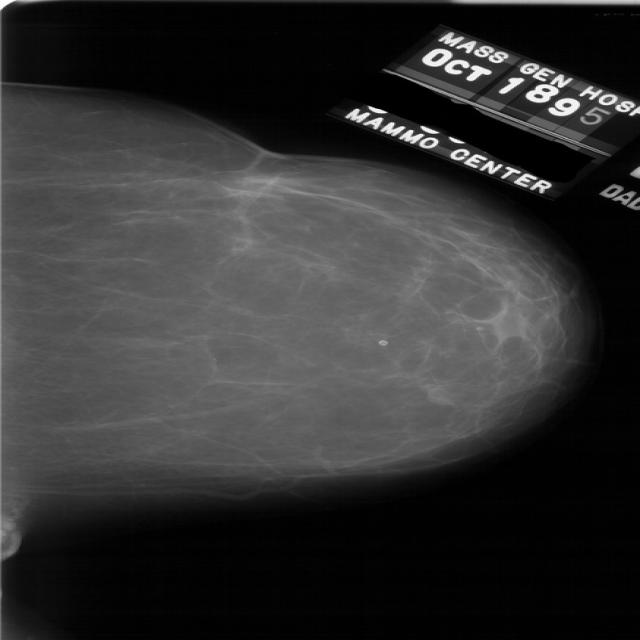tumour: (423, 386, 454, 406)
